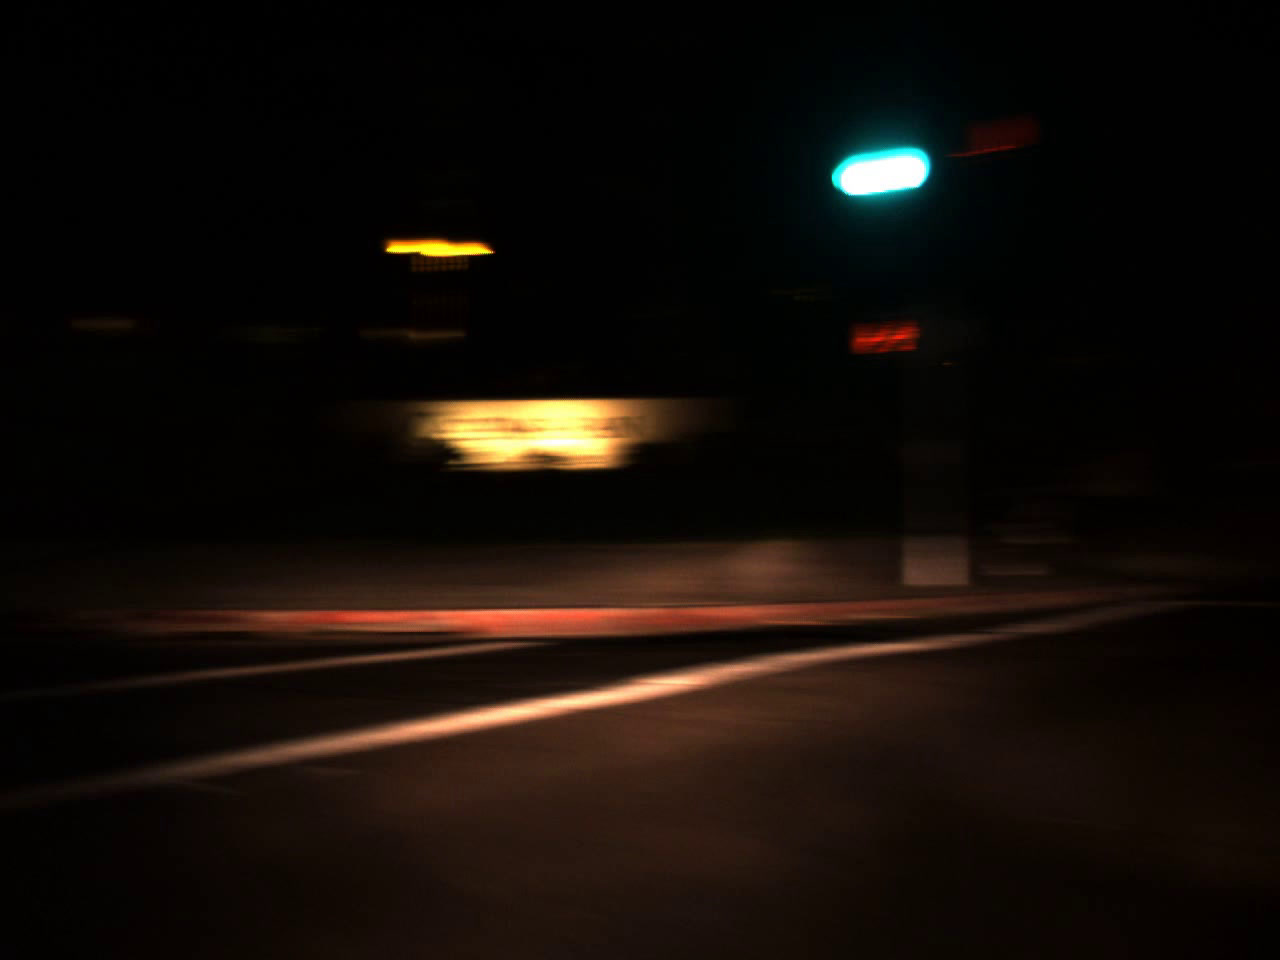go: (819, 89, 937, 218)
